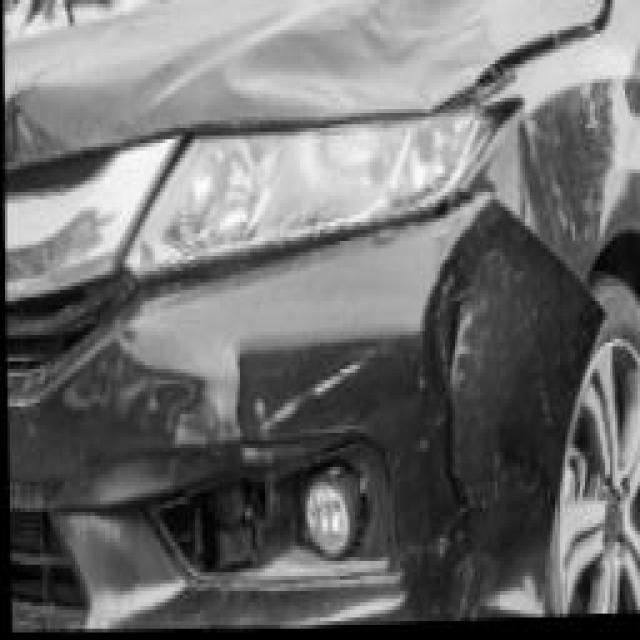Bonnet: (0, 0, 635, 181)
Bumper: (165, 188, 614, 633)
